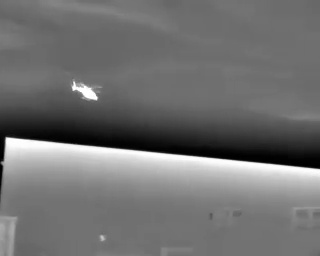HELICOPTER: (66, 76, 108, 108)
